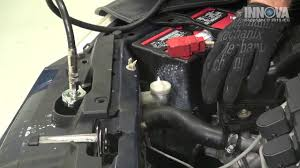radiator_hose: (142, 103, 240, 153)
